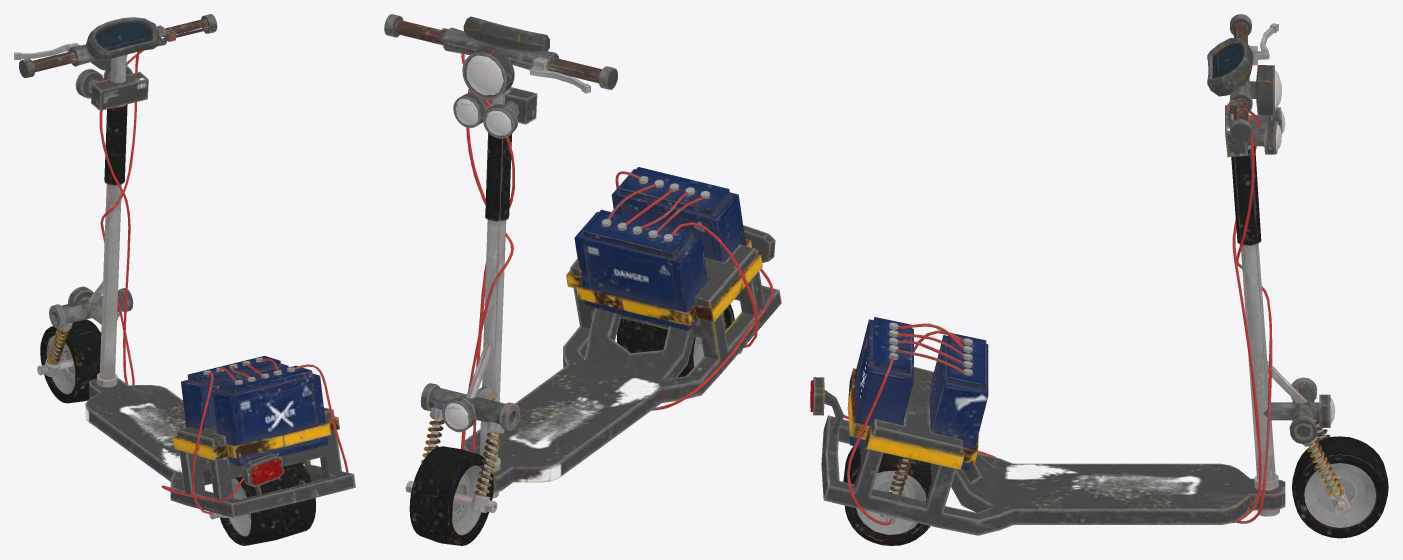
File: scooter.glb
3 views of the same model, side by side, from view 1: azimuth 30°, elevation 25°; view 2: azimuth 150°, elevation 25°; view 3: azimuth 270°, elevation 25° (orthographic). The views are drawn at different scales.
Parts seen in each view (by area): view 1: defaultMaterial; view 2: defaultMaterial; view 3: defaultMaterial.
Boxes of the visible parts, x1,y1,x2,y2 form: defaultMaterial: (14, 14, 355, 545); defaultMaterial: (384, 14, 781, 545); defaultMaterial: (810, 14, 1388, 545).
Bounding box in the file's own units: 0.535 × 1.1 × 1.2.
1 material, 1 textured.
